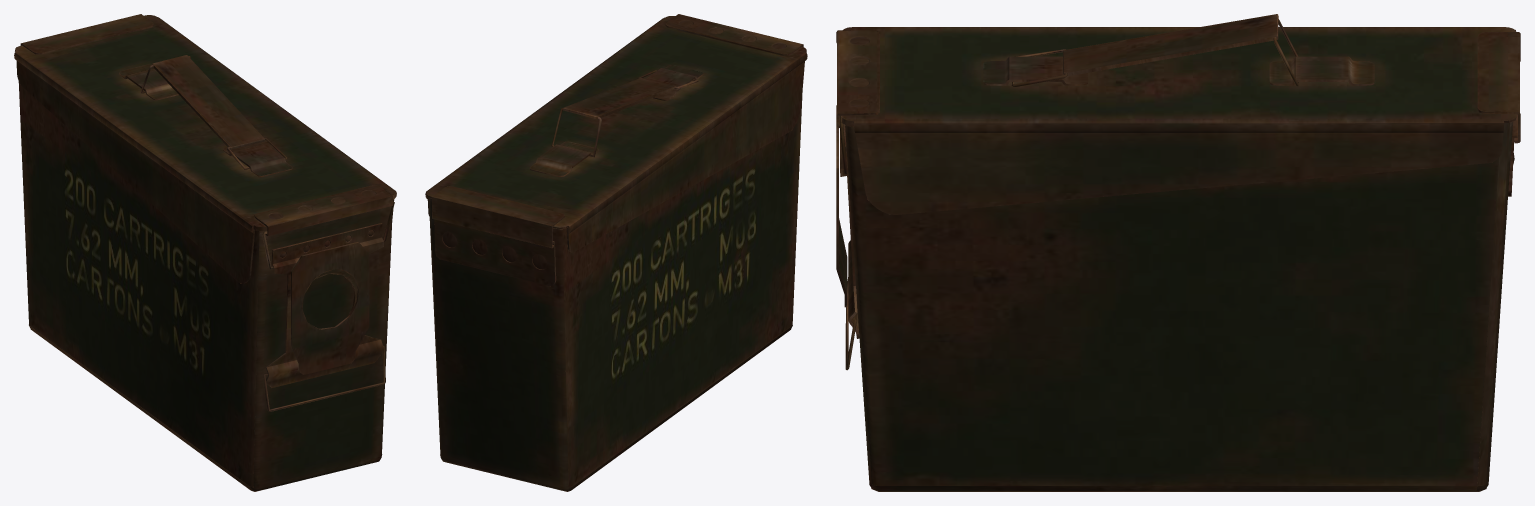
Rendered from ph_ammo_box.gltf.
The picture shows the model from 3 angles, left to right: view 1: azimuth 30°, elevation 25°; view 2: azimuth 150°, elevation 25°; view 3: azimuth 270°, elevation 25°; orthographic projection. The views are drawn at different scales.
Parts seen in each view (by area): view 1: Body; view 2: Body; view 3: Body.
Part boxes in pixels (x1,y1,x2,y2): Body: (14, 14, 396, 491); Body: (425, 14, 807, 491); Body: (836, 14, 1520, 491).
Size of the model in its own units: 0.0866 by 0.1774 by 0.2578.
1 material, 1 textured.
